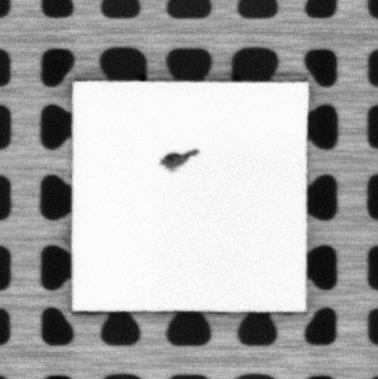DIE_INK: (159, 145, 199, 172)
